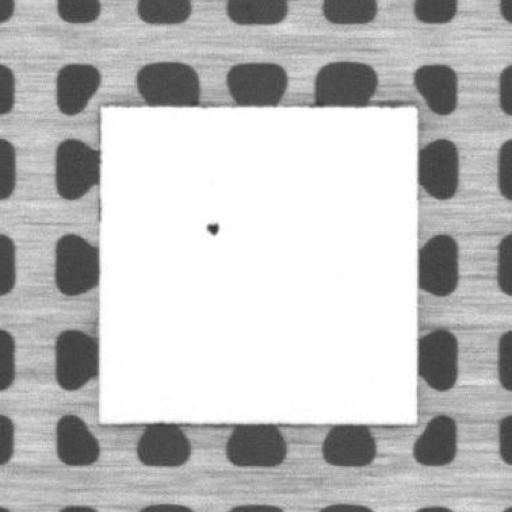DIE_INK: (205, 219, 222, 236)
